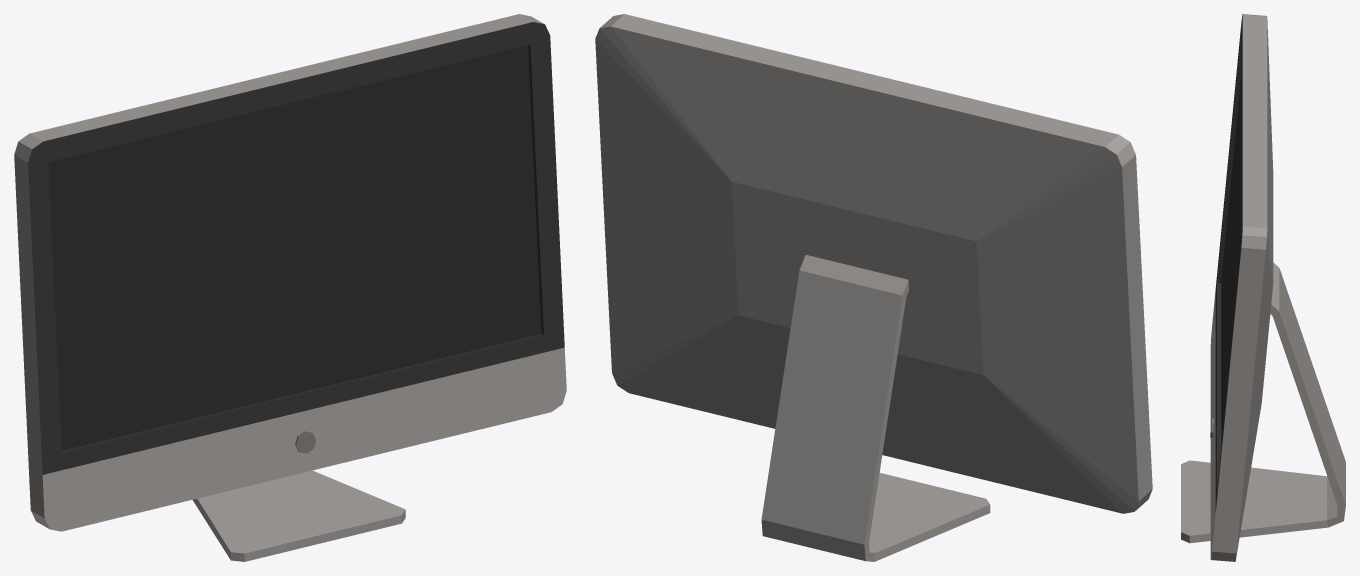
The model's file is SM_Props_Interior_Shop_Electronic_Monitor_03.fbx.
3 views of the same model, side by side, from view 1: azimuth 30°, elevation 25°; view 2: azimuth 150°, elevation 25°; view 3: azimuth 270°, elevation 25° (orthographic). The views are drawn at different scales.
Visible parts, largest first — view 1: SM_Props_Interior_Shop_Electronic_Monitor_03; view 2: SM_Props_Interior_Shop_Electronic_Monitor_03; view 3: SM_Props_Interior_Shop_Electronic_Monitor_03.
Part boxes in pixels (<box>): SM_Props_Interior_Shop_Electronic_Monitor_03: <box>14,14,566,561</box>; SM_Props_Interior_Shop_Electronic_Monitor_03: <box>595,14,1152,561</box>; SM_Props_Interior_Shop_Electronic_Monitor_03: <box>1181,14,1345,561</box>.
Bounding box in the file's own units: 65 × 51.8 × 20.1.
